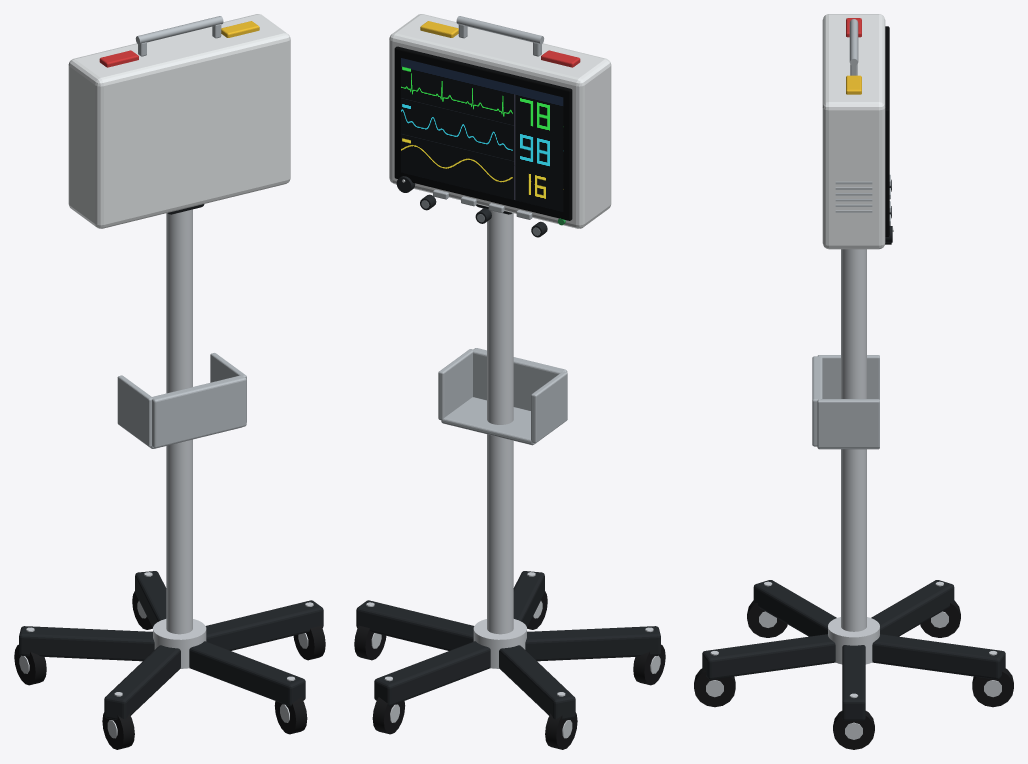
File: Patient_Monitor.glb
The picture shows the model from 3 angles, left to right: view 1: azimuth 30°, elevation 25°; view 2: azimuth 150°, elevation 25°; view 3: azimuth 270°, elevation 25°; orthographic projection. The views are drawn at different scales.
Visible parts, largest first — view 1: Body, Column.002, BasketBack, Leg2, Leg4, Leg0, Leg3, BasketSide, Leg1, Hub, HandleBar, Wheel.007 (+4 smaller); view 2: Screen, Body, Column.002, Bezel, Leg3, Leg1, Leg0, Leg2, BasketBack, BasketBottom, BasketSide, BasketSide.001 (+7 smaller); view 3: Body, Column.002, Leg1, Leg4, BasketSide.001, Leg2, Leg3, Leg0, BasketSide, Hub, Bezel, Wheel.004 (+5 smaller).
Part boxes in pixels (left/top/right/bottom): Body: left=68, top=14, right=290, bottom=228; Column.002: left=166, top=209, right=192, bottom=634; BasketBack: left=152, top=375, right=246, bottom=448; Leg2: left=19, top=626, right=154, bottom=661; Leg4: left=189, top=641, right=305, bottom=706; Leg0: left=205, top=600, right=323, bottom=650; Leg3: left=104, top=645, right=180, bottom=719; BasketSide: left=117, top=375, right=152, bottom=446; Leg1: left=135, top=571, right=166, bottom=627; Hub: left=153, top=619, right=206, bottom=668; HandleBar: left=135, top=16, right=223, bottom=44; Wheel.007: left=102, top=712, right=134, bottom=749; Screen: left=401, top=58, right=563, bottom=211; Body: left=389, top=14, right=611, bottom=228; Column.002: left=487, top=210, right=513, bottom=634; Bezel: left=394, top=46, right=572, bottom=220; Leg3: left=525, top=626, right=660, bottom=661; Leg1: left=374, top=641, right=490, bottom=706; Leg0: left=356, top=600, right=474, bottom=650; Leg2: left=499, top=645, right=575, bottom=719; BasketBack: left=472, top=348, right=567, bottom=410; BasketBottom: left=441, top=397, right=535, bottom=445; BasketSide: left=531, top=371, right=567, bottom=443; BasketSide.001: left=438, top=349, right=473, bottom=420; Body: left=822, top=14, right=885, bottom=249; Column.002: left=841, top=249, right=866, bottom=631; Leg1: left=872, top=634, right=1005, bottom=679; Leg4: left=702, top=634, right=835, bottom=679; BasketSide.001: left=817, top=399, right=879, bottom=447; Leg2: left=871, top=580, right=954, bottom=636; Leg3: left=753, top=580, right=836, bottom=636; Leg0: left=842, top=645, right=865, bottom=720; BasketSide: left=818, top=355, right=879, bottom=399; Hub: left=828, top=617, right=879, bottom=664; Bezel: left=885, top=26, right=889, bottom=236; Wheel.004: left=833, top=711, right=874, bottom=749.
Size of the model in its own units: 0.5535 by 1.37 by 0.6126.
11 materials, 1 textured.
